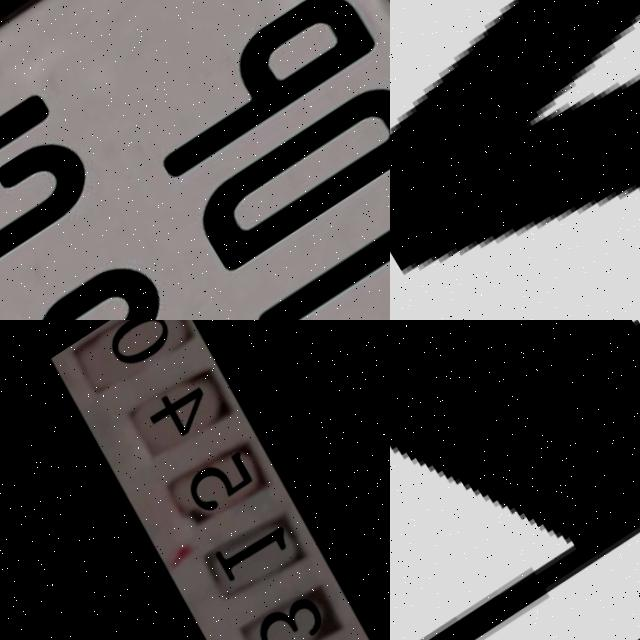0: (87, 320, 197, 394)
1: (208, 512, 309, 609)
3: (0, 250, 174, 320), (239, 581, 346, 640)
4: (132, 368, 235, 466)
5: (171, 440, 276, 539)
C: (0, 125, 101, 320)
D: (185, 74, 390, 286)
L: (0, 44, 55, 250)
N: (390, 320, 640, 640)
P: (128, 0, 382, 188)
T: (241, 168, 390, 320)
V: (390, 0, 640, 320)
